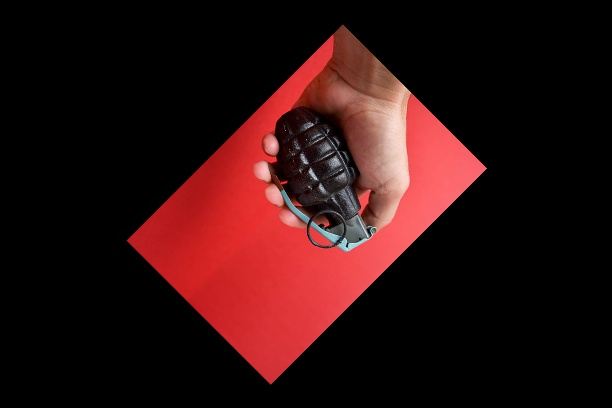e1: (269, 103, 380, 255)
